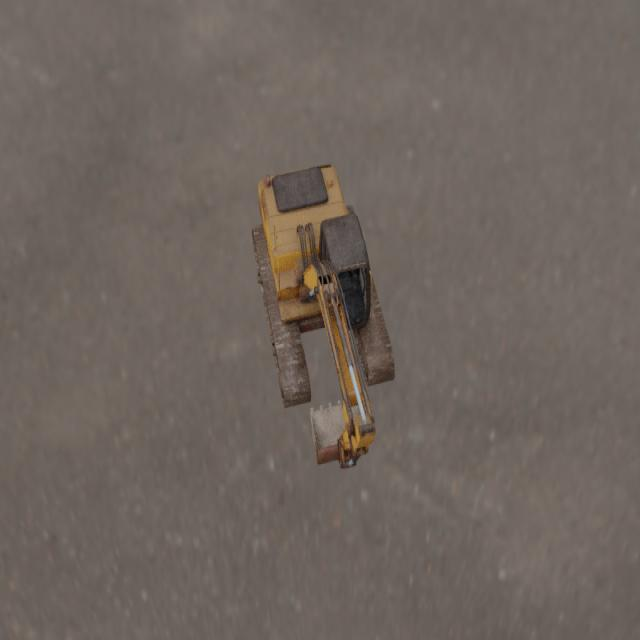excavator: (251, 163, 395, 469)
